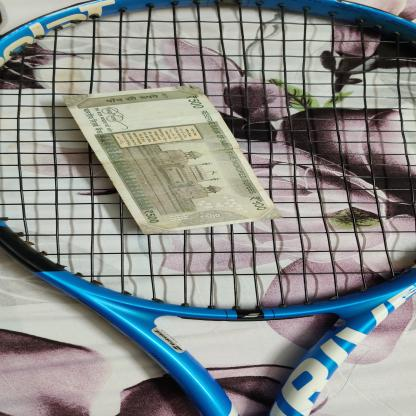New500Back: (61, 85, 282, 235)
